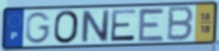B: (165, 5, 196, 43)
E: (137, 7, 166, 43), (109, 8, 138, 43)
G: (25, 11, 53, 45)
N: (80, 9, 110, 44)
O: (53, 9, 81, 45)
